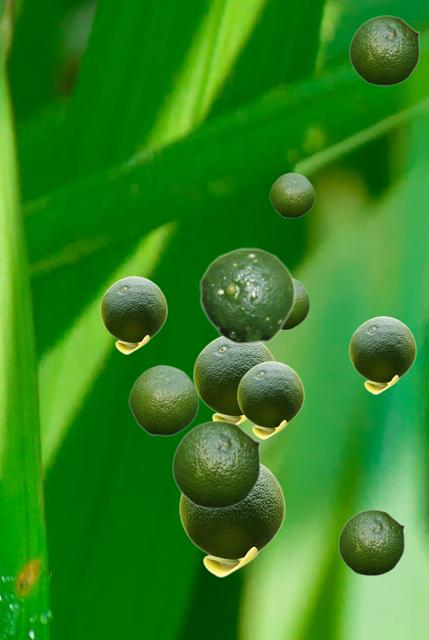calamansi: (179, 463, 284, 576), (199, 247, 295, 344), (172, 420, 260, 508), (193, 336, 275, 424), (100, 276, 166, 353), (349, 316, 415, 393), (237, 361, 303, 438), (128, 364, 198, 435), (349, 15, 419, 85), (338, 509, 404, 575), (269, 172, 314, 217), (283, 278, 309, 329)
